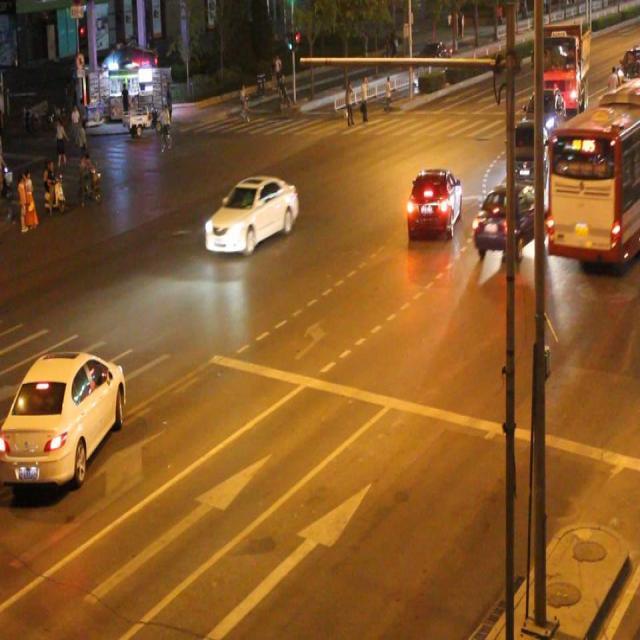car: (1, 348, 128, 482), (205, 174, 298, 255), (472, 181, 544, 255), (404, 168, 463, 239), (506, 120, 547, 184)
van: (544, 79, 640, 252)
